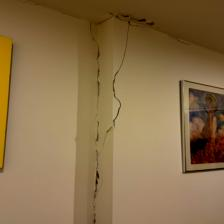High: (80, 9, 159, 222)
